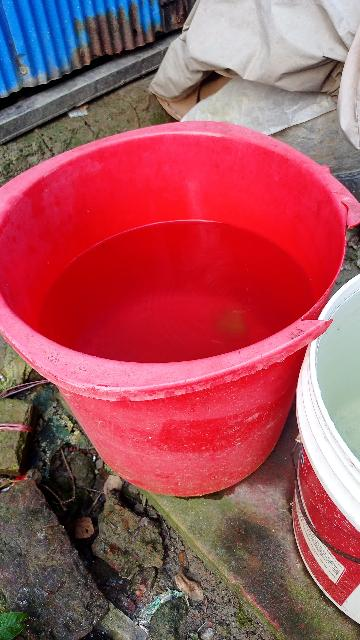hardplastic: (0, 125, 347, 495)
